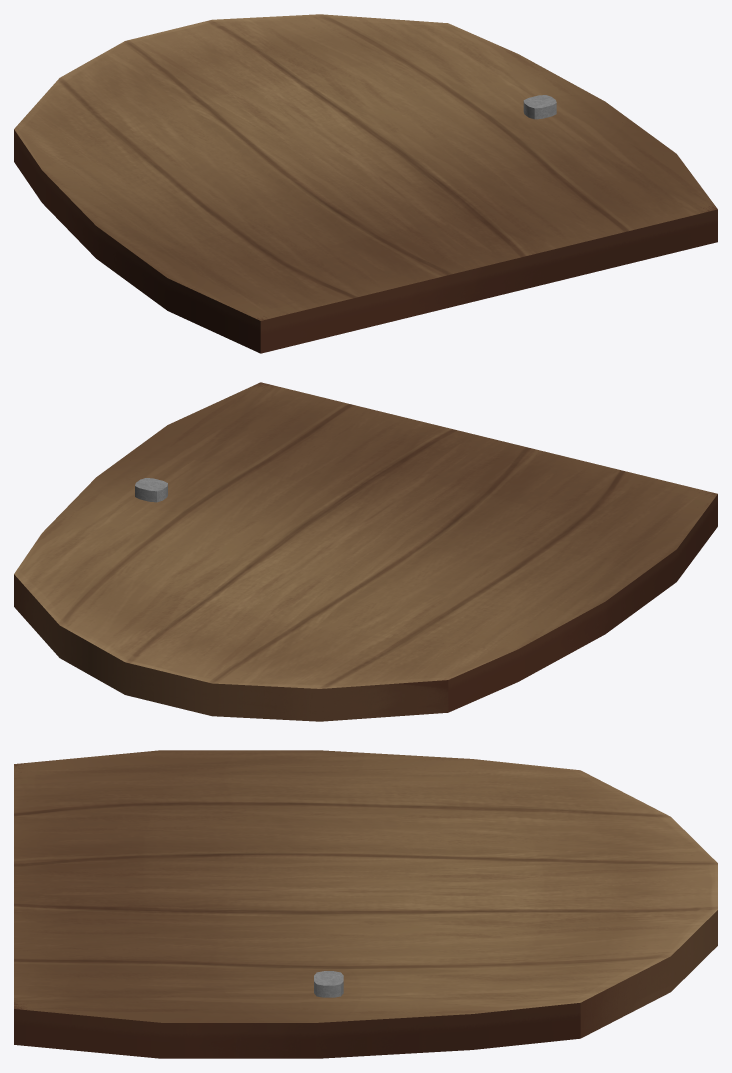
The model's file is deurtje.FBX.
3 views of the same model, one above another, from view 1: azimuth 30°, elevation 25°; view 2: azimuth 150°, elevation 25°; view 3: azimuth 270°, elevation 25° (orthographic). The views are drawn at different scales.
Visible parts, largest first — view 1: Box001, Box002; view 2: Box001, Box002; view 3: Box001, Box002.
Part boxes in pixels (<box>): Box001: <box>14,14,717,353</box>; Box002: <box>523,95,556,119</box>; Box001: <box>14,382,717,721</box>; Box002: <box>135,478,167,502</box>; Box001: <box>14,750,717,1058</box>; Box002: <box>314,971,343,997</box>.
Bounding box in the file's own units: 33.41 × 2.75 × 36.45.
2 materials, 2 textured.
